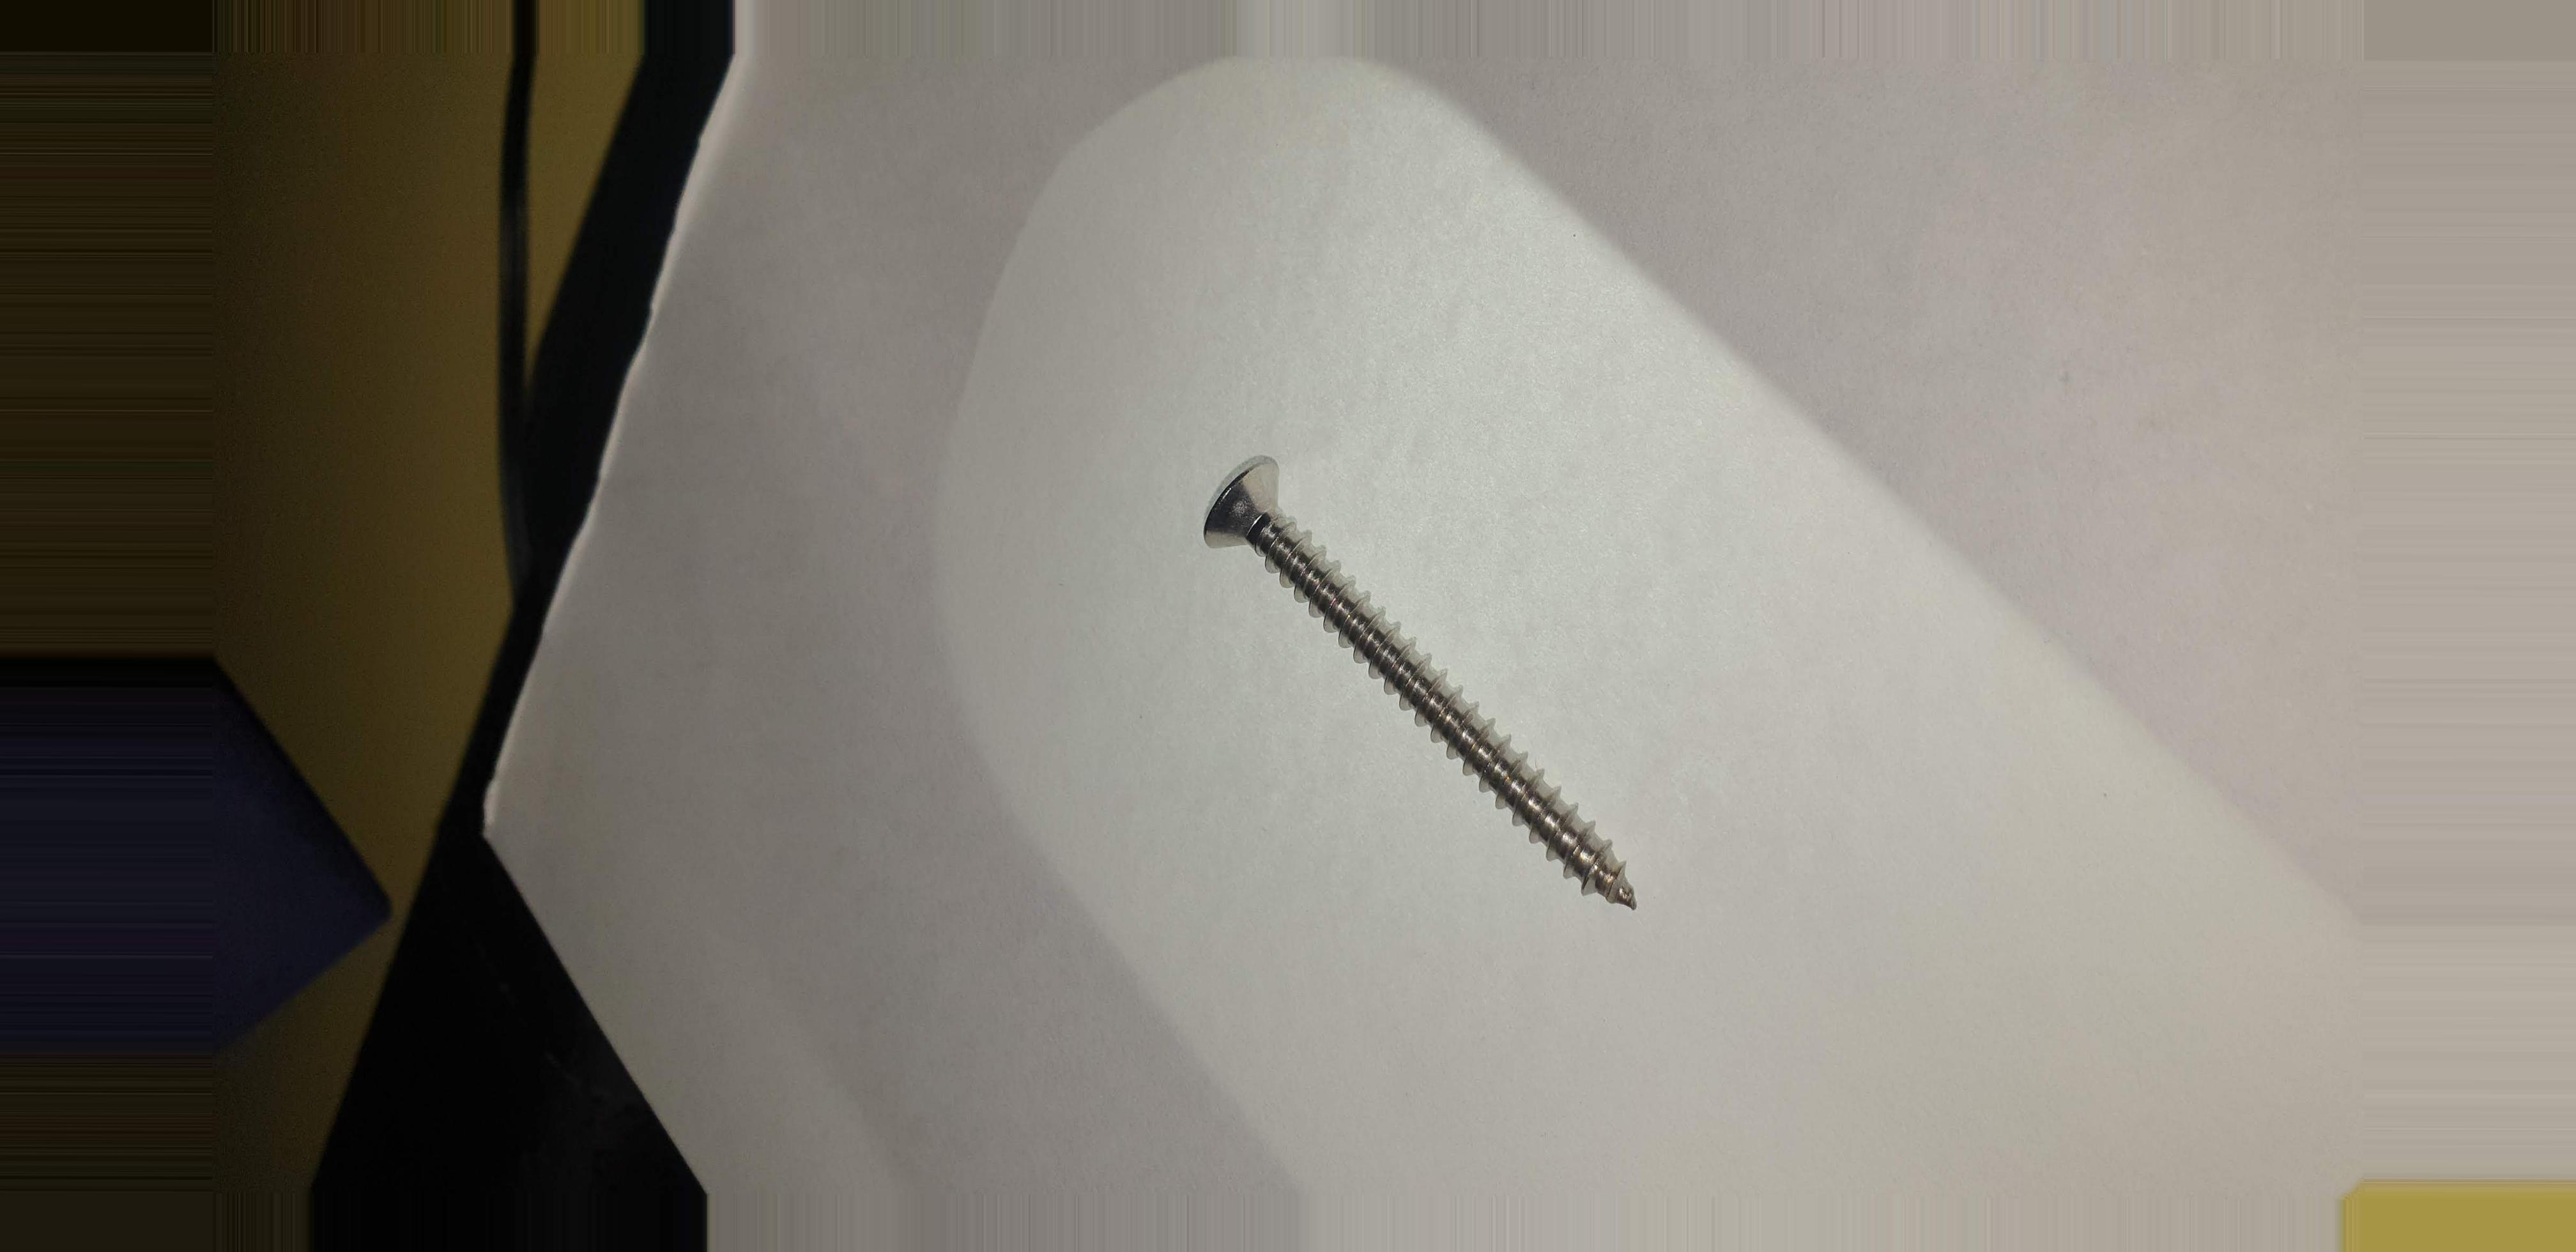fastener: (1066, 361, 1745, 1004)
